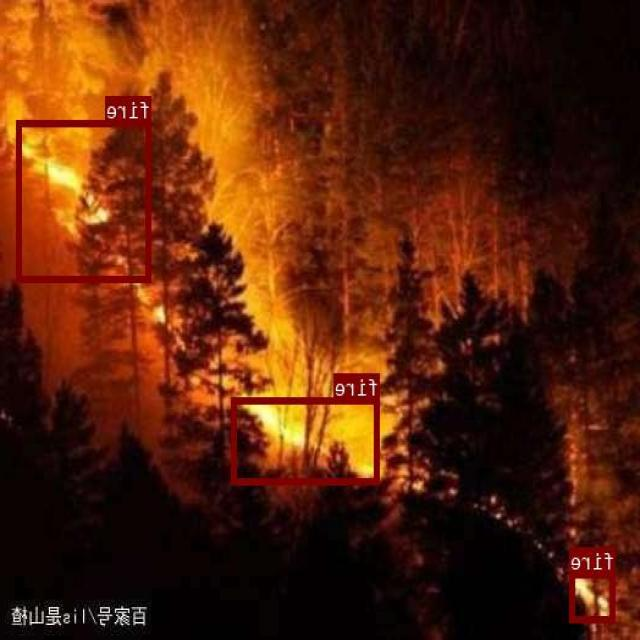fire: (18, 118, 152, 281), (233, 397, 380, 483), (571, 570, 616, 621)
